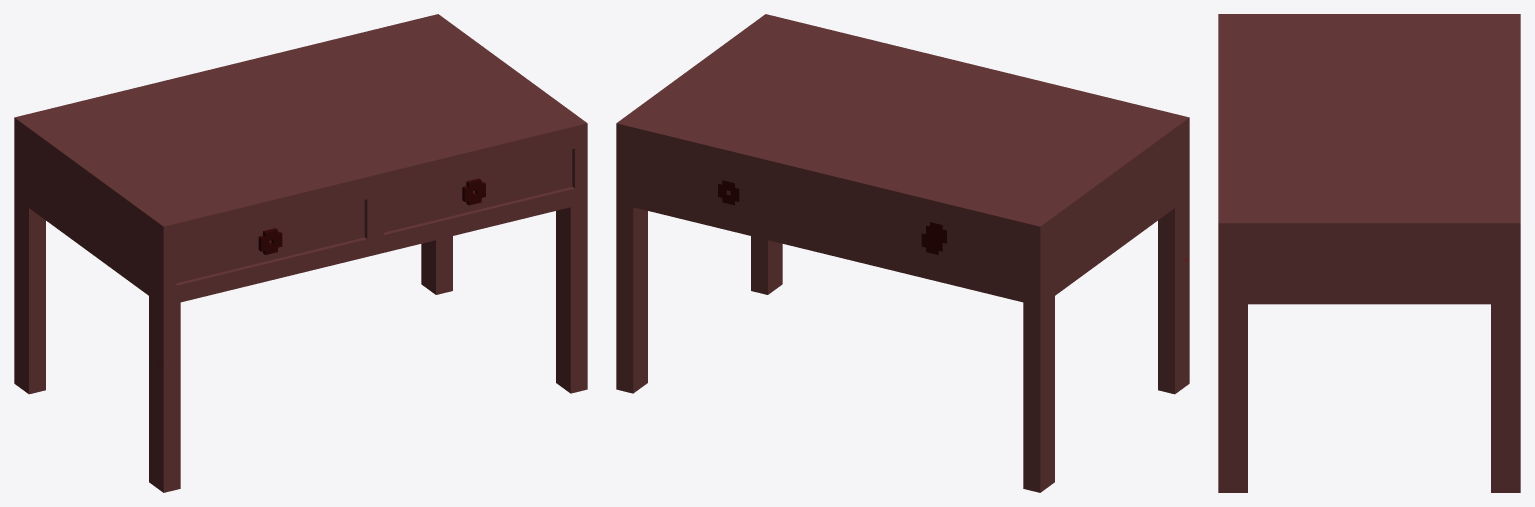
The model's file is table.obj.
The picture shows the model from 3 angles, left to right: view 1: azimuth 30°, elevation 25°; view 2: azimuth 150°, elevation 25°; view 3: azimuth 270°, elevation 25°; orthographic projection.
Visible parts, largest first — view 1: table; view 2: table; view 3: table.
Boxes of the visible parts, x1,y1,x2,y2 form: table: (14, 14, 587, 492); table: (616, 14, 1189, 492); table: (1218, 14, 1520, 492).
Size of the model in its own units: 100 by 60 by 61.
